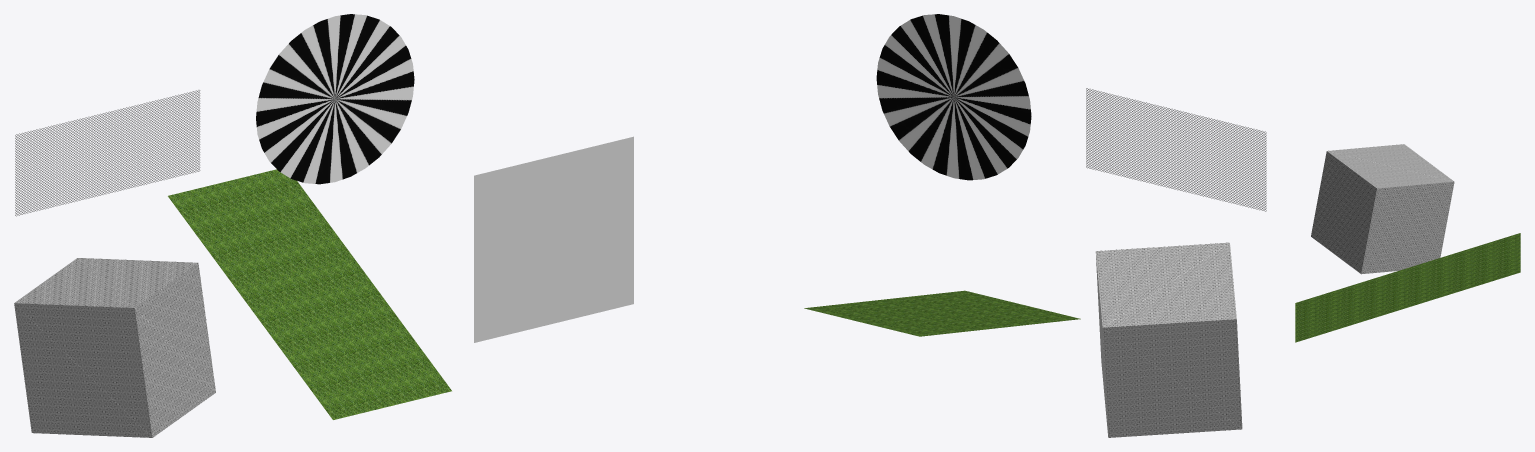
Rendered from traa_demo_scene.optimized.glb.
The picture shows the model from 3 angles, left to right: view 1: azimuth 30°, elevation 25°; view 2: azimuth 150°, elevation 25°; view 3: azimuth 270°, elevation 25°; orthographic projection. The views are drawn at different scales.
Parts seen in each view (by area): view 1: Plane.001, Cube, shader, Cylinder, Plane; view 2: Cube, Cylinder, Plane, Plane.001; view 3: Cube, Plane.001.
Part boxes in pixels (x1,y1,x2,y2): Plane.001: (168,169,451,419); Cube: (14,258,215,437); shader: (474,136,633,342); Cylinder: (256,14,414,184); Plane: (15,90,200,216); Cube: (1095,242,1242,437); Cylinder: (876,14,1031,180); Plane: (1086,88,1266,211); Plane.001: (804,290,1080,336); Cube: (1311,144,1454,274); Plane.001: (1295,233,1520,342).
Size of the model in its own units: 10.38 by 5.78 by 4.81.
4 materials, 4 textured.
